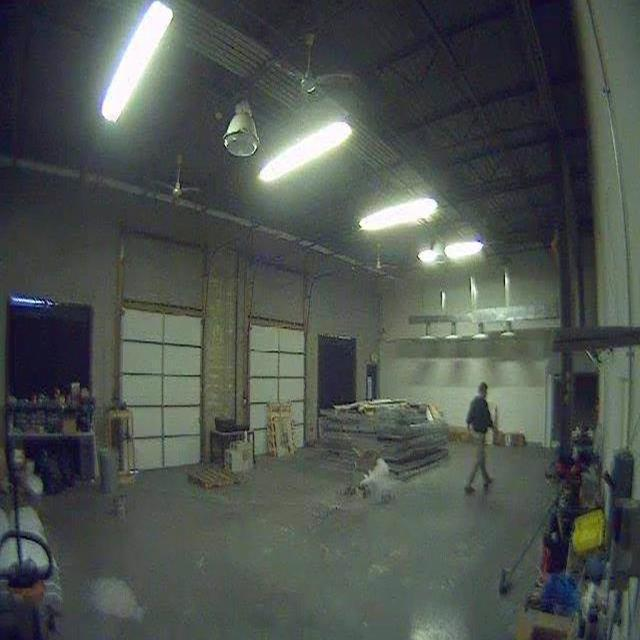fire: (360, 455, 395, 505)
